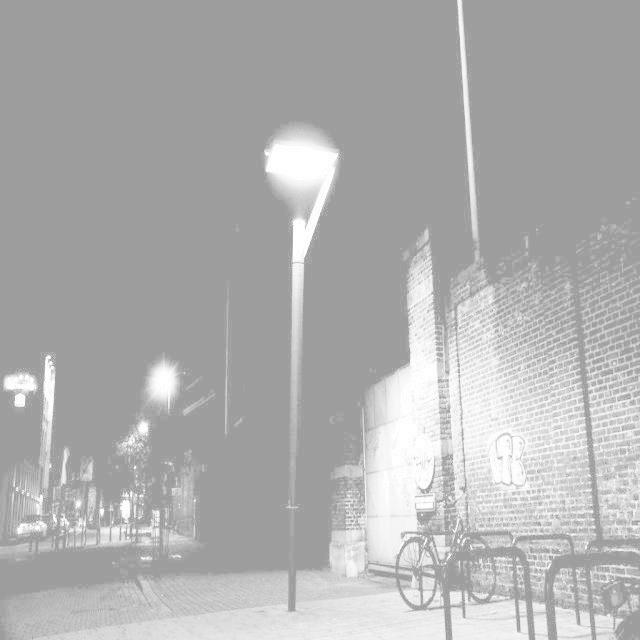Bicycle: (393, 486, 498, 612)
Light: (263, 118, 341, 208)
